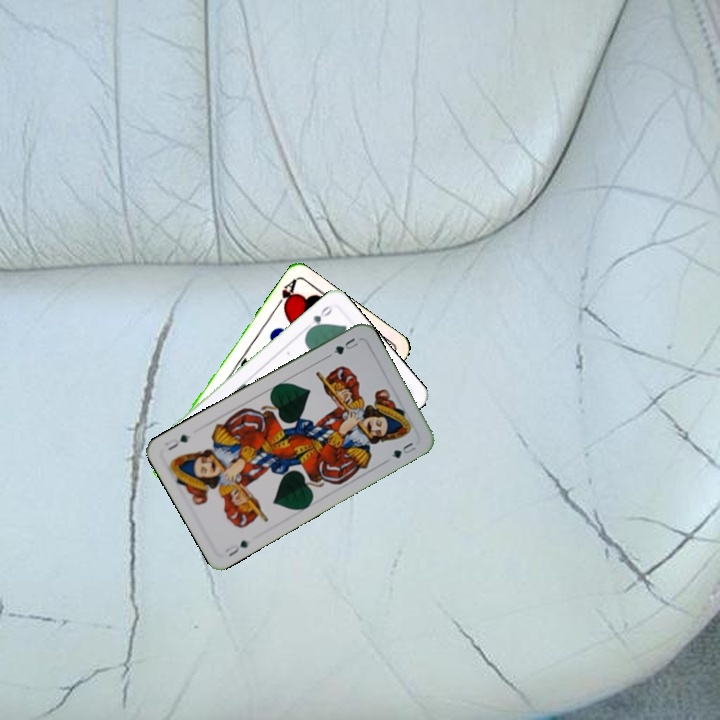GO: (304, 301, 336, 334)
GU: (329, 333, 361, 357), (221, 536, 252, 559)
HA: (271, 275, 299, 312)
